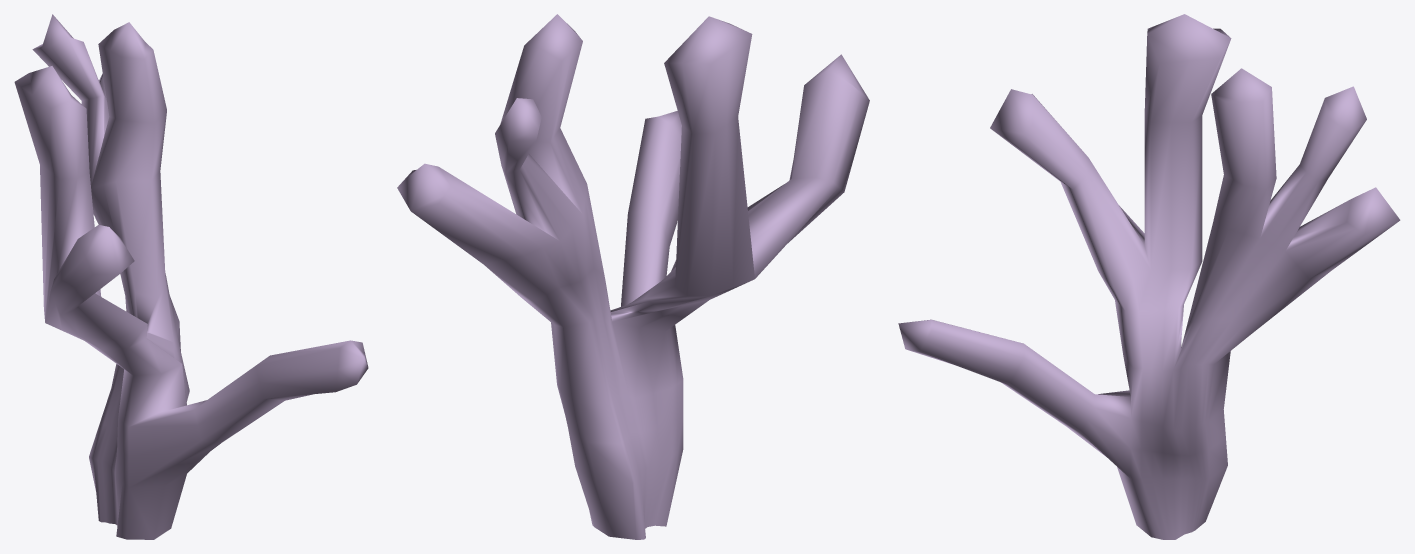
Rendered from BlauwKoraal 1.fbx.
The picture shows the model from 3 angles, left to right: view 1: azimuth 30°, elevation 25°; view 2: azimuth 150°, elevation 25°; view 3: azimuth 270°, elevation 25°; orthographic projection. The views are drawn at different scales.
Parts seen in each view (by area): view 1: CubeBlauw; view 2: CubeBlauw; view 3: CubeBlauw.
Boxes of the visible parts, left/top/right/bottom form: CubeBlauw: left=14, top=14, right=368, bottom=539; CubeBlauw: left=397, top=14, right=869, bottom=539; CubeBlauw: left=898, top=14, right=1400, bottom=539.
Bounding box in the file's own units: 192 × 362 × 348.
